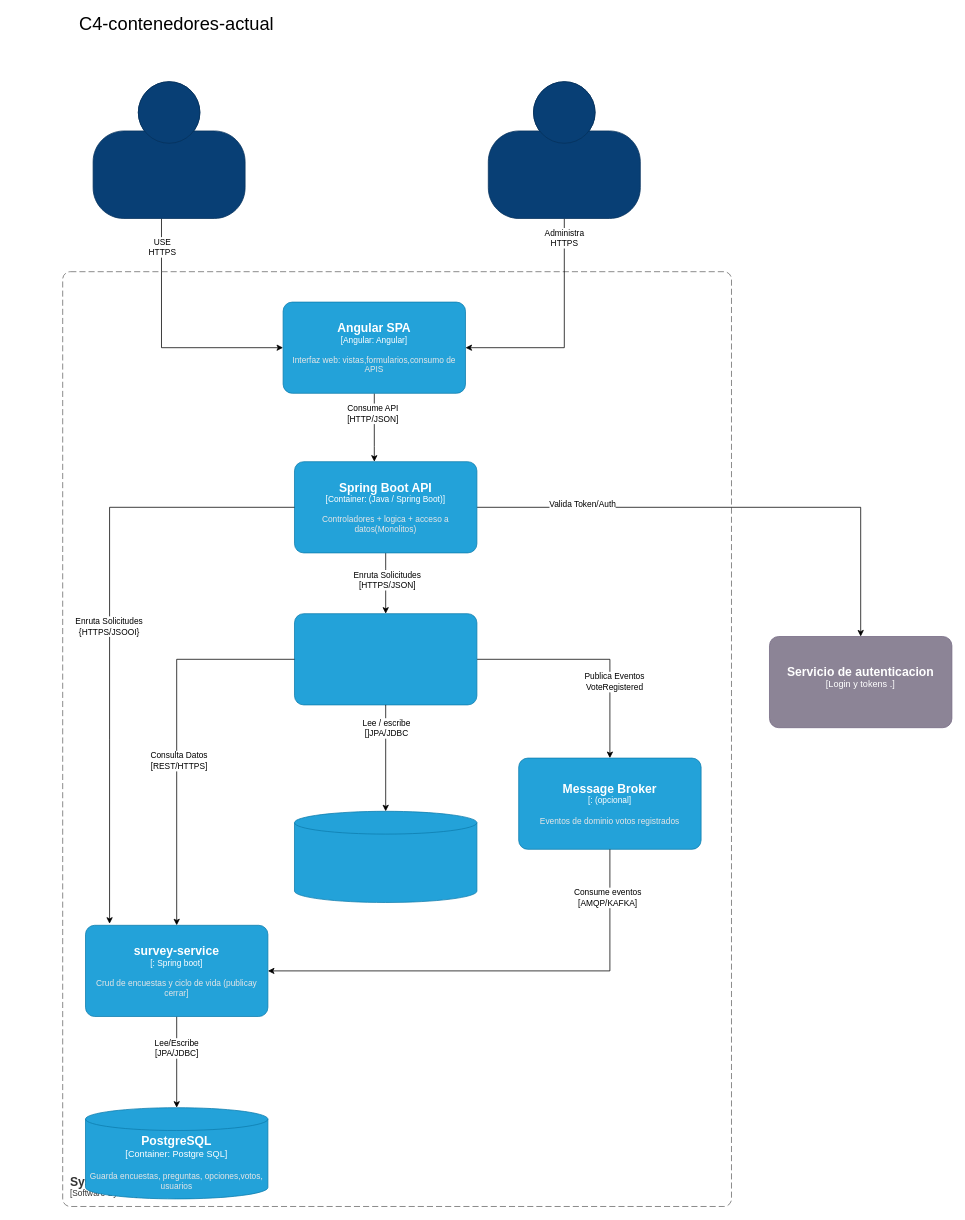
This 965x1220 diagram has some shape labels left out. Here are the shapes that lost their labels. From the top down, the box of each, then its label:
(92, 81, 245, 218): Usuario [Person] Interactua con el navegador
(488, 81, 640, 218): Administrador [Person] Gestiona encuestas
(294, 613, 477, 705): Voting-service [: ] Registro de votos y calculo de resultados
(294, 811, 477, 902): DB Votes [Container: Postgre SQL] Votos y agregadis de resyktadis
